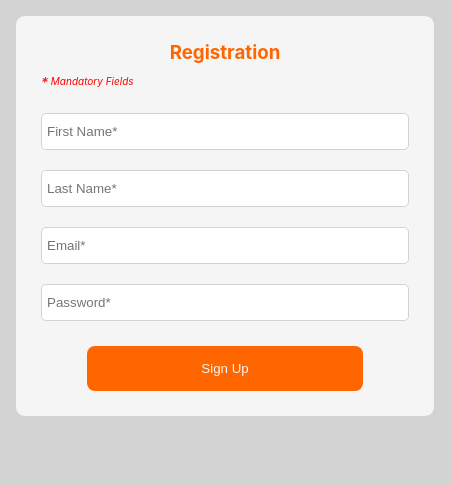
Test case: Registration component › validations for sign up › should validate password with first name
The width and height of the screenshot is (451, 486).
In the field with test id "firstname-field": {"x": 225, "y": 132} [41,113,409,150], type "Dane"
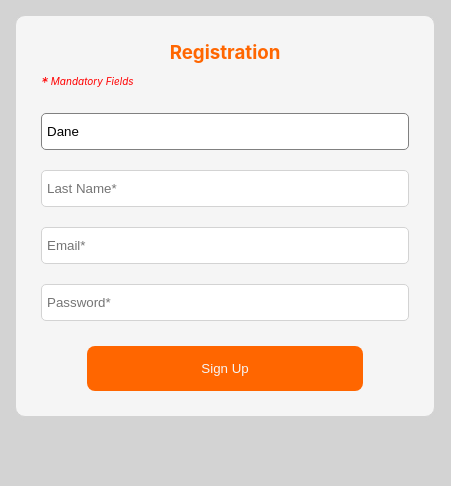
In the password field with test id "password-field": {"x": 225, "y": 303} [41,284,409,321], type "PassDane"
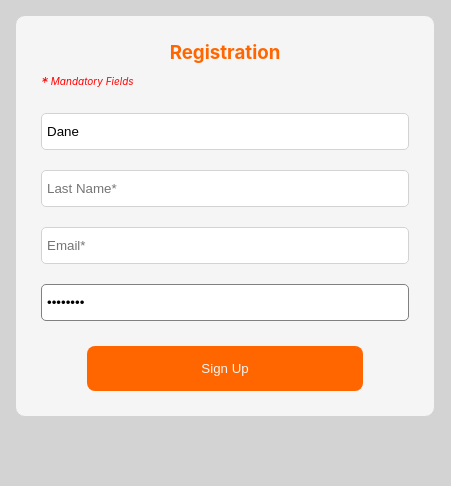
Press Tab
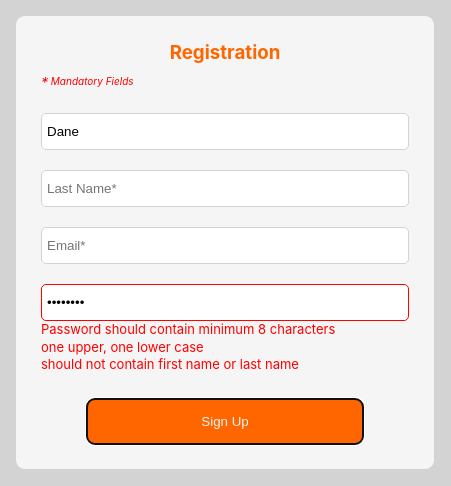
expect the text "should not contain first name or last name" is shown: met, box [41,356,299,372]
